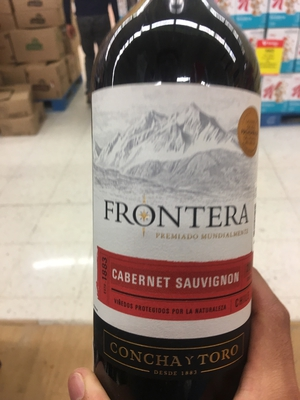frontera cabernet sauvignon: (96, 8, 259, 397)
